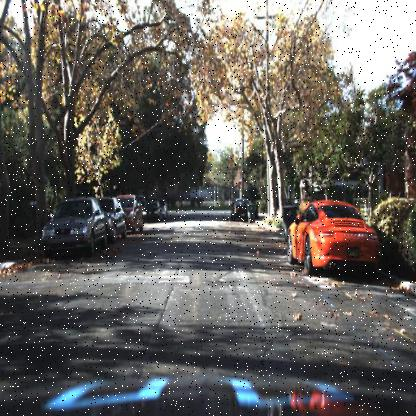car: (286, 200, 378, 279), (39, 192, 110, 252), (97, 198, 126, 242), (107, 192, 126, 250), (119, 192, 144, 230), (126, 186, 142, 237), (142, 198, 163, 224), (231, 197, 251, 221)
